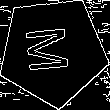M_E: (26, 26, 80, 77)
